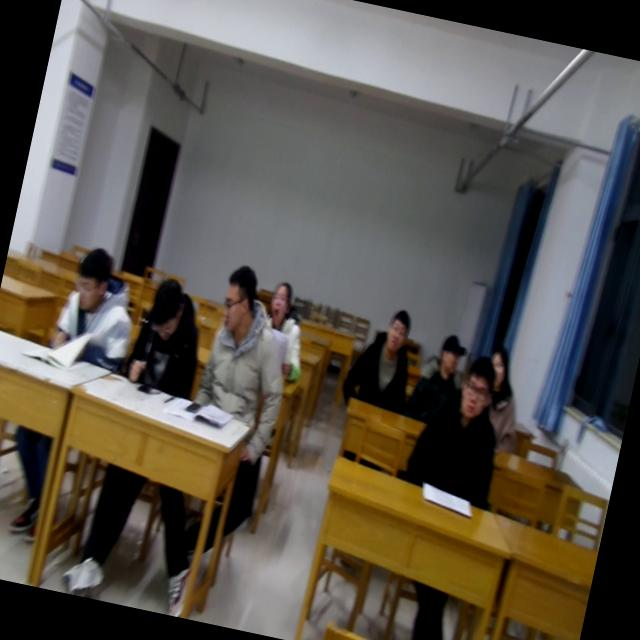down: (65, 237, 120, 320), (140, 268, 192, 346)
lookup: (448, 348, 501, 422), (378, 298, 417, 356), (481, 344, 516, 391), (264, 273, 296, 324)
sit: (399, 345, 518, 512), (190, 260, 308, 426), (44, 239, 148, 375), (118, 272, 212, 402), (337, 297, 428, 418), (250, 276, 320, 386), (402, 326, 474, 430), (469, 345, 533, 454)
